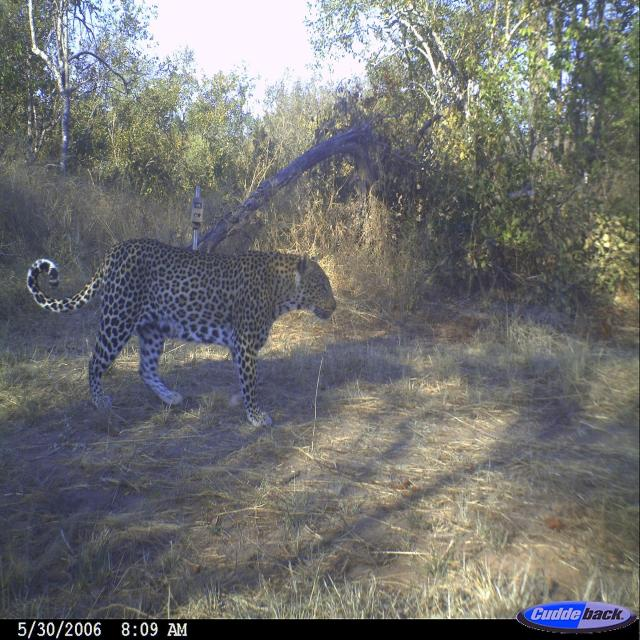Leopard: (21, 215, 348, 435)
